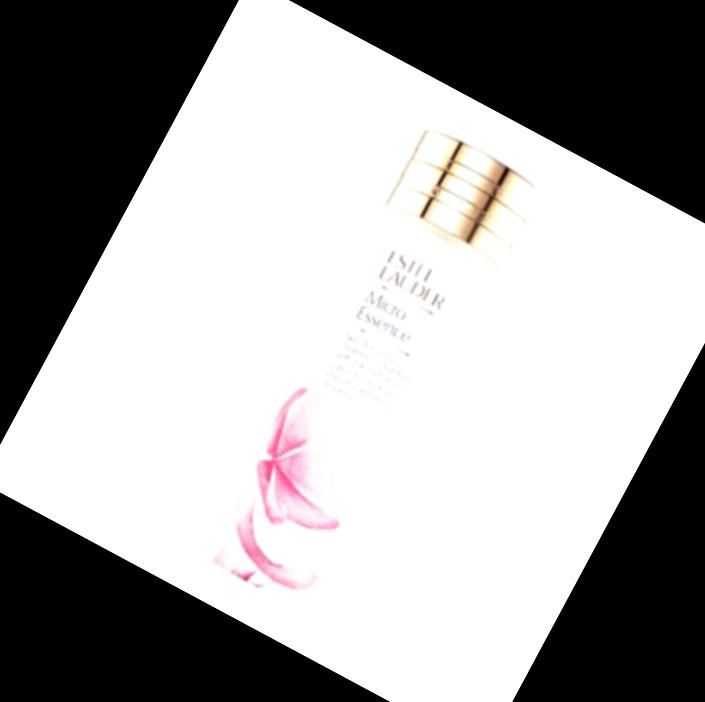cosmetic: (201, 130, 540, 617)
